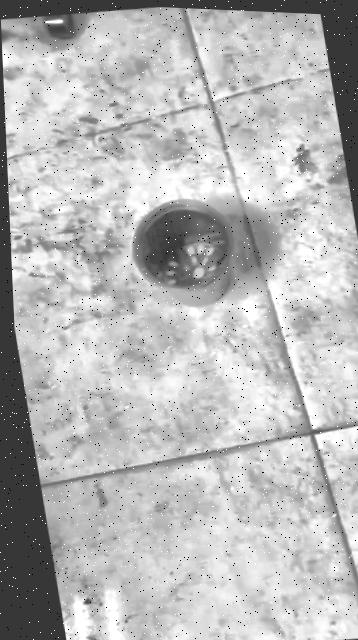pot: (125, 191, 242, 311)
